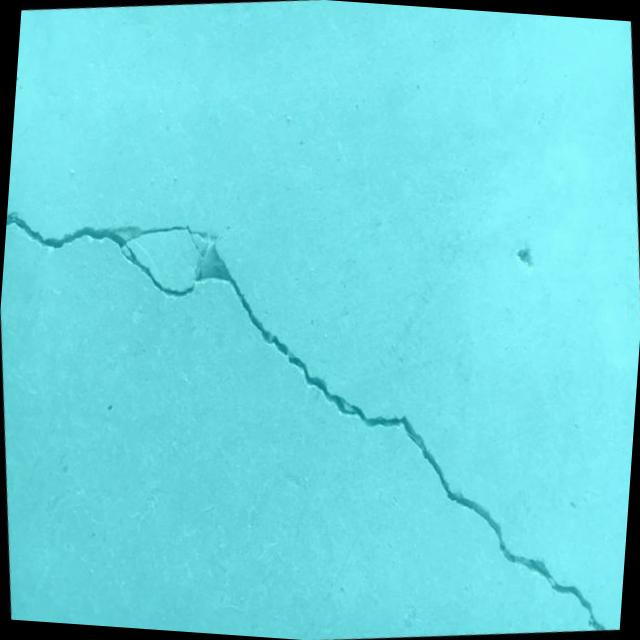crack: (0, 150, 635, 640)
